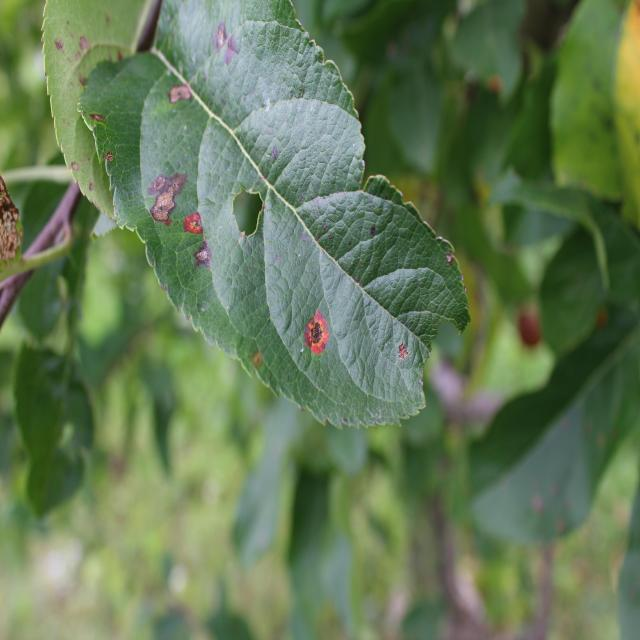rust: (77, 0, 471, 431)
